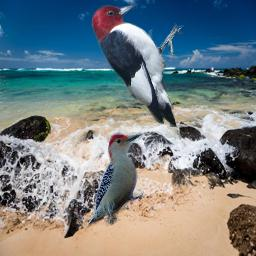Woodpecker: (91, 3, 186, 127), (86, 132, 144, 228)
